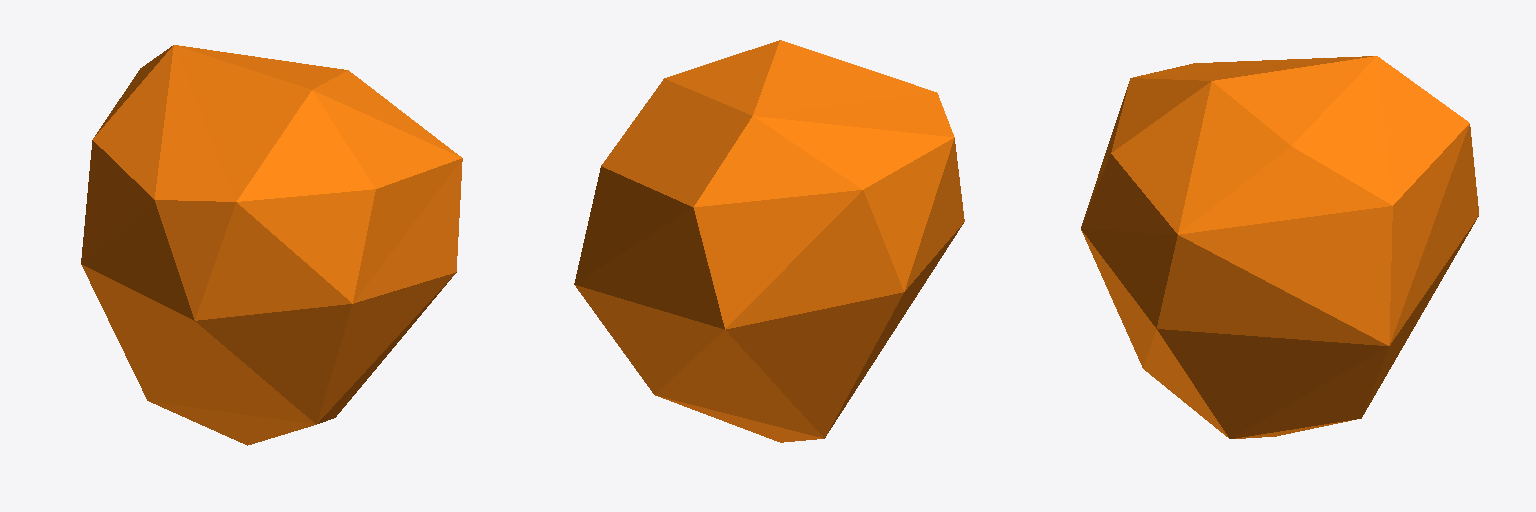
Rendered from Topaz.obj.
The picture shows the model from 3 angles: view 1: azimuth 30°, elevation 25°; view 2: azimuth 150°, elevation 25°; view 3: azimuth 270°, elevation 25°; orthographic projection.
Parts seen in each view (by area): view 1: Topaz; view 2: Topaz; view 3: Topaz.
Part boxes in pixels (bbox=[...]): Topaz: bbox=[81, 45, 462, 445]; Topaz: bbox=[574, 40, 964, 442]; Topaz: bbox=[1081, 56, 1478, 438].
Size of the model in its own units: 0.24 by 0.2736 by 0.2662.